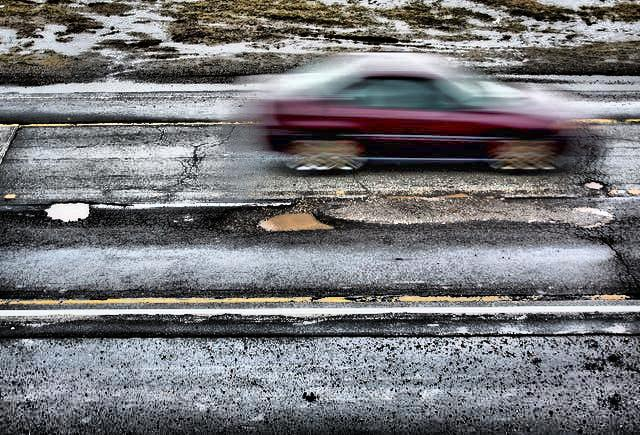pothole: (226, 201, 346, 240), (41, 198, 93, 226), (576, 178, 609, 191)
